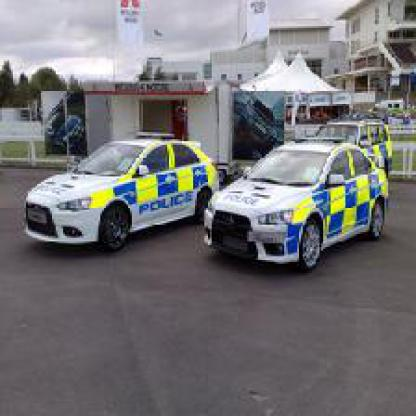emergency: (190, 134, 401, 267), (11, 124, 210, 251)
